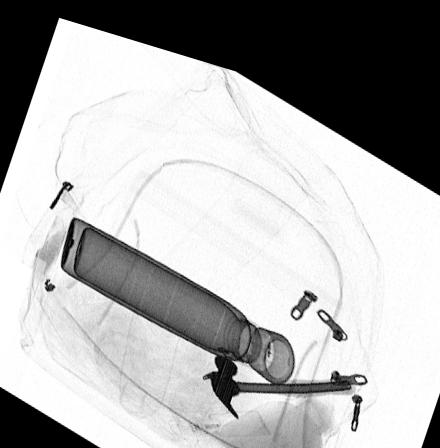Hammer: (205, 341, 356, 405)
